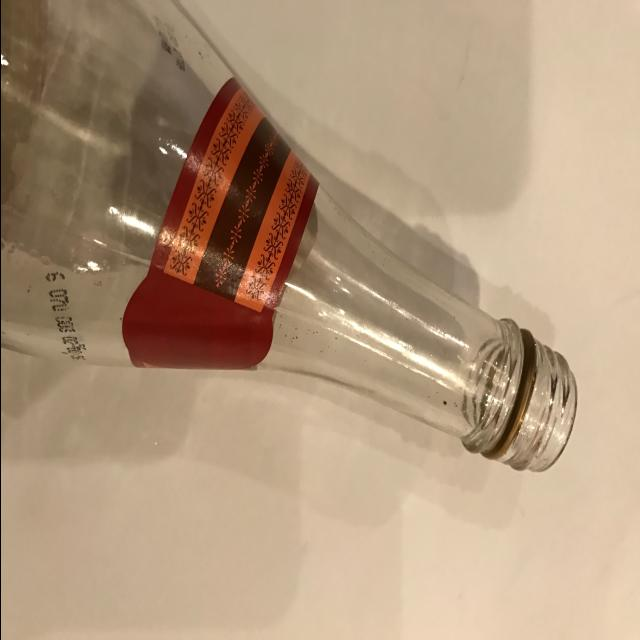glass: (0, 4, 578, 474)
